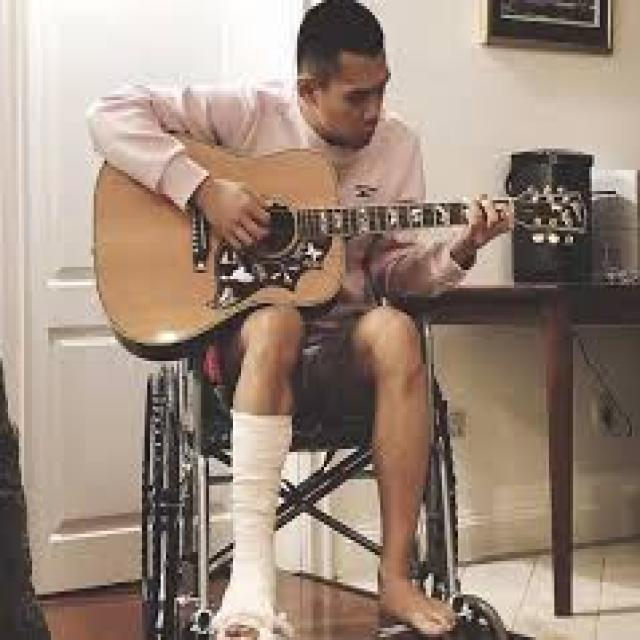wheelchairs: (134, 249, 511, 634)
